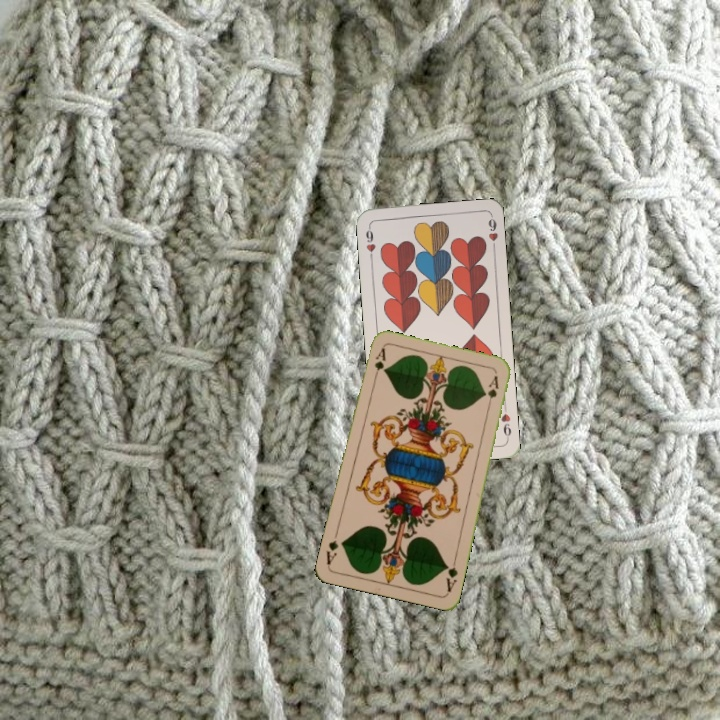GA: (369, 344, 388, 384), (442, 554, 460, 595)
H9: (497, 401, 514, 442), (361, 222, 378, 263)
